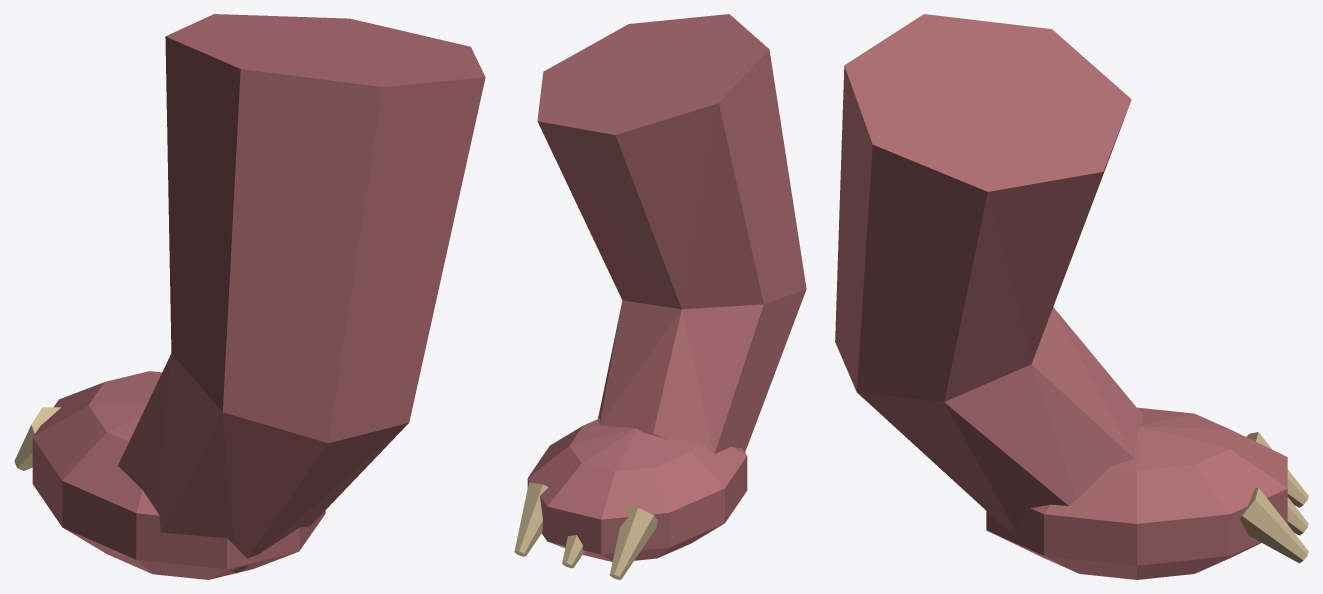
The model's file is chimera_d_leg_-1_0.obj.
3 renders of one model, left to right at view 1: azimuth 30°, elevation 25°; view 2: azimuth 150°, elevation 25°; view 3: azimuth 270°, elevation 25°, orthographic. The views are drawn at different scales.
Parts seen in each view (by area): view 1: chimera_d_leg_-1_0; view 2: chimera_d_leg_-1_0; view 3: chimera_d_leg_-1_0.
Part boxes in pixels (x1,y1,x2,y2): chimera_d_leg_-1_0: (14,14,485,579); chimera_d_leg_-1_0: (514,14,806,579); chimera_d_leg_-1_0: (835,14,1308,579).
Size of the model in its own units: 0.3842 by 0.6574 by 0.5404.
